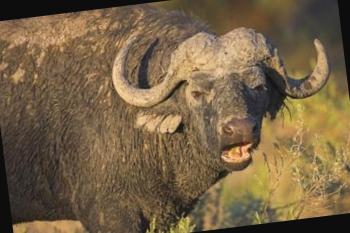Buffalo: (0, 0, 349, 233)
